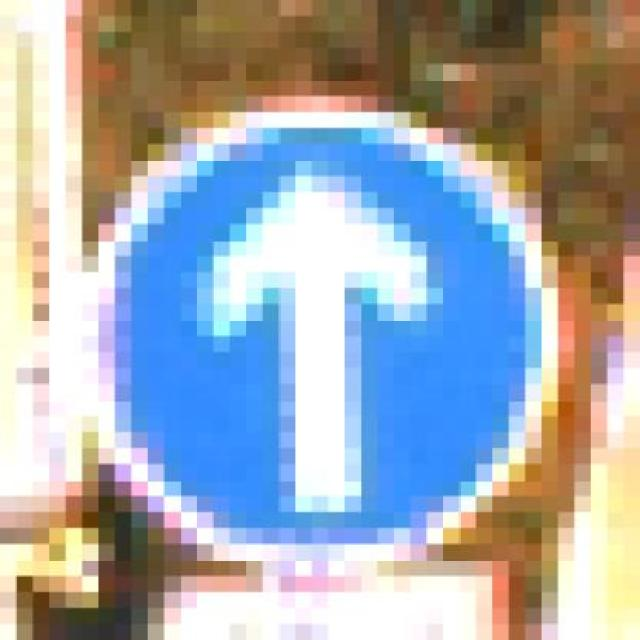Straight Ahead Only: (65, 112, 607, 576)
